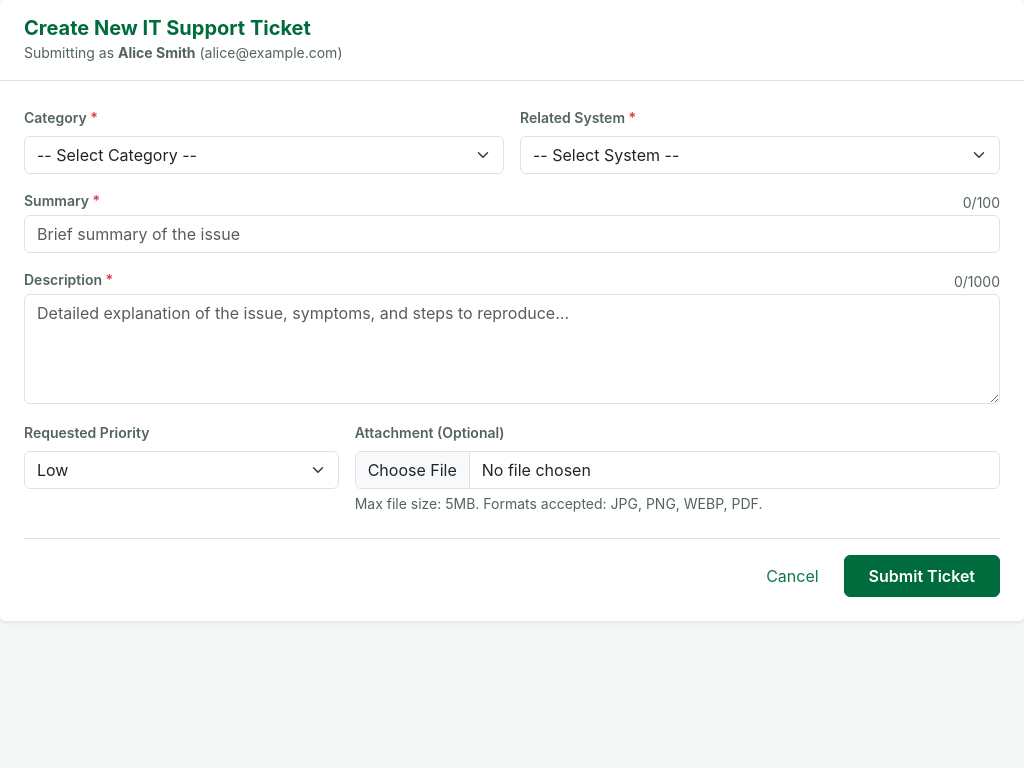
CreateTicket Screen (All 6 States) › State 3 (Submitting): disables submit button and shows busy text while submitting
Select "Hardware" in the dropdown labelled "Category *": x=264, y=155 24,136 -> 504,174
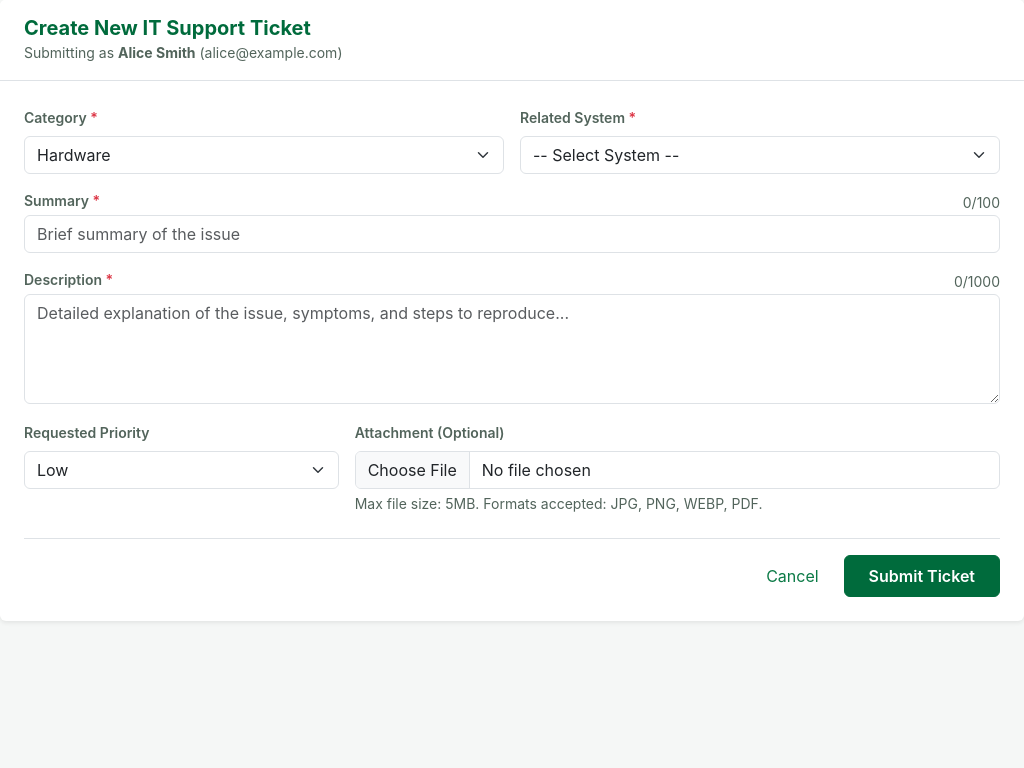
Select "Corporate Laptop" in the dropdown labelled "Related System *": x=760, y=155 520,136 -> 1000,174
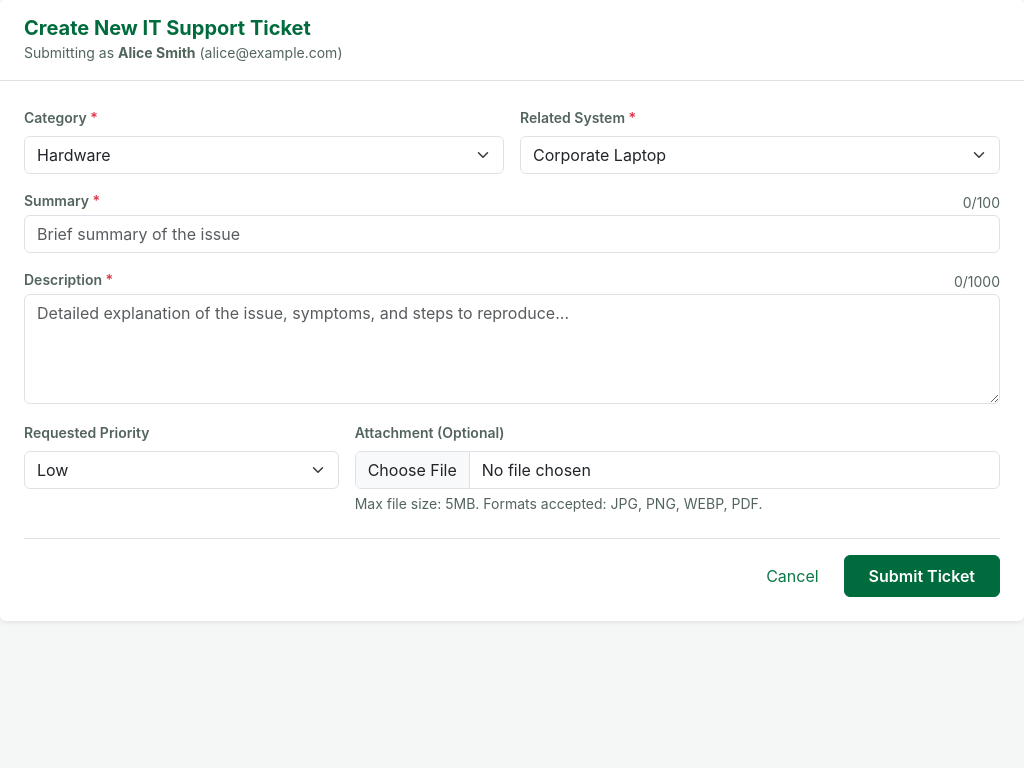
In the field labelled "Summary *": x=512, y=234 24,215 -> 1000,253, type "Valid Summary"
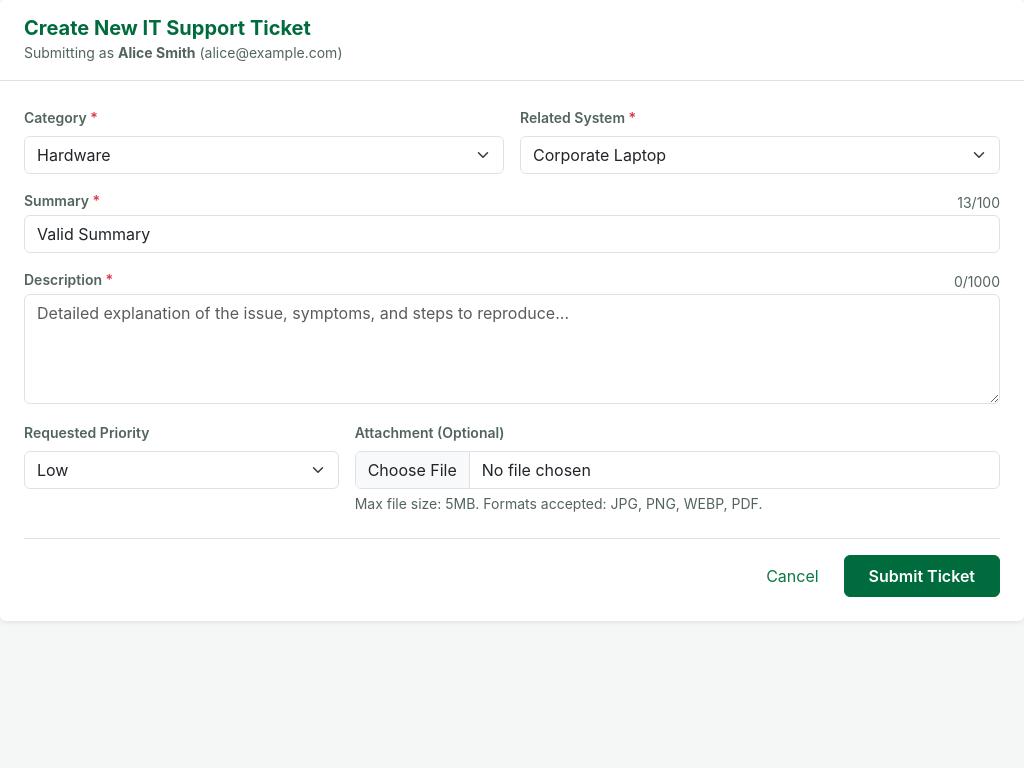
Replace the text in the text box labelled "Description *" with "Valid Description": x=512, y=349 24,294 -> 1000,404
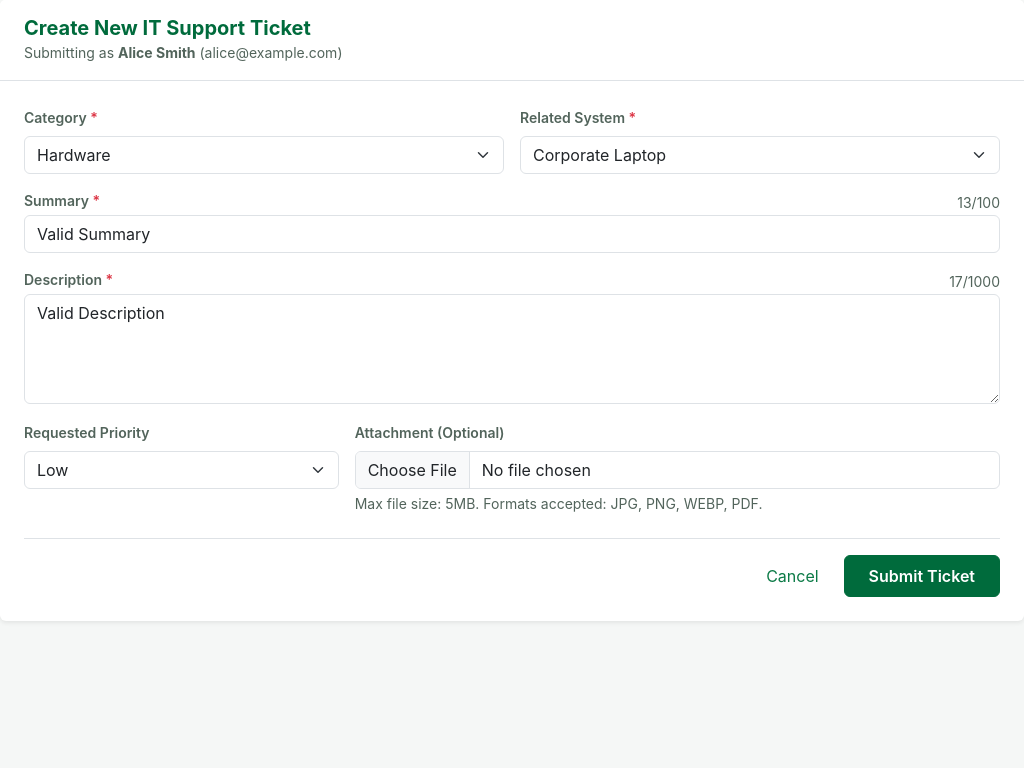
Click the button "Submit Ticket": x=922, y=576 844,555 -> 1000,597
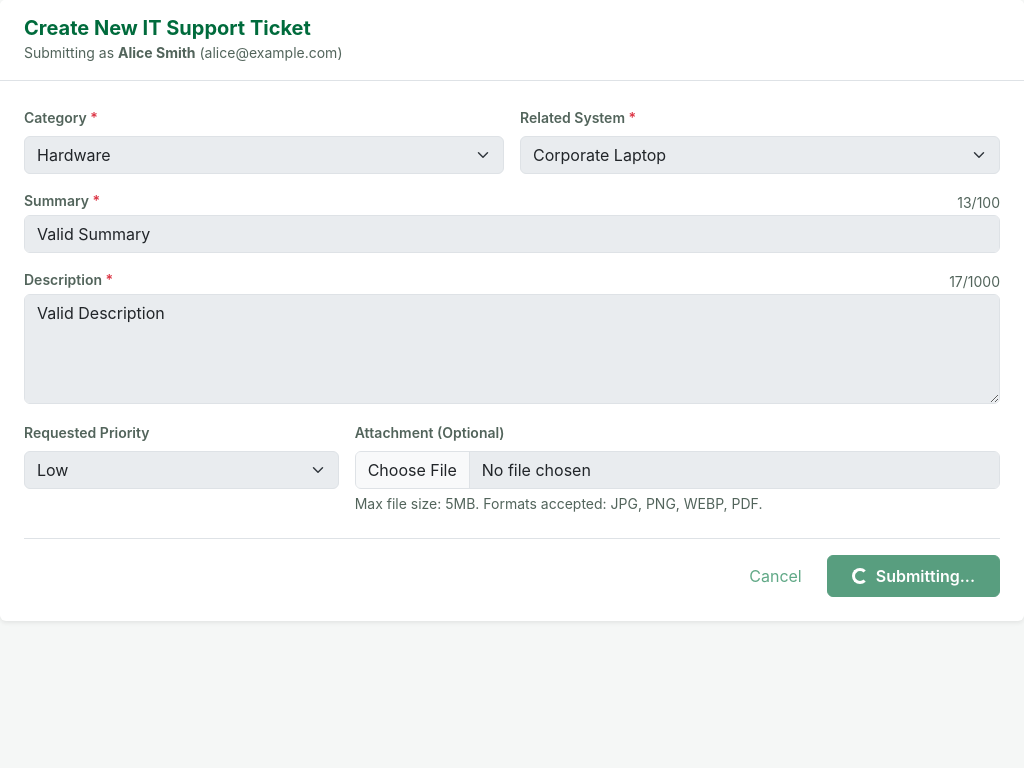
Result: the button "Submitting..." is disabled at 827,555 -> 1000,597
